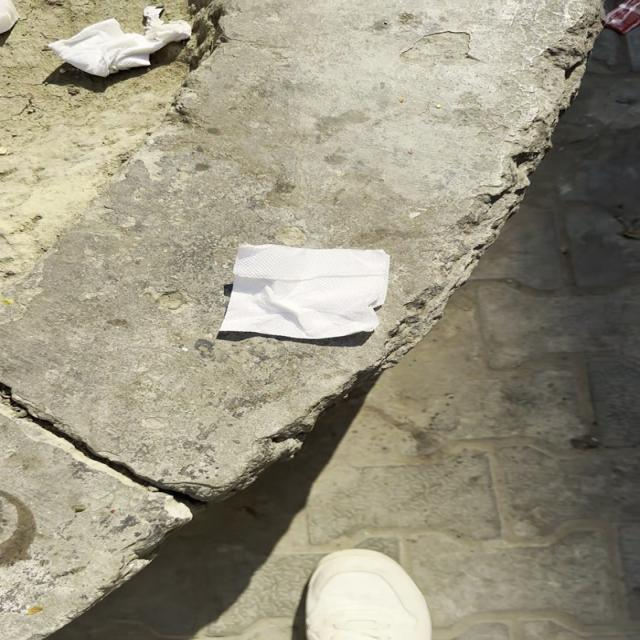tissue: (218, 242, 400, 339)
